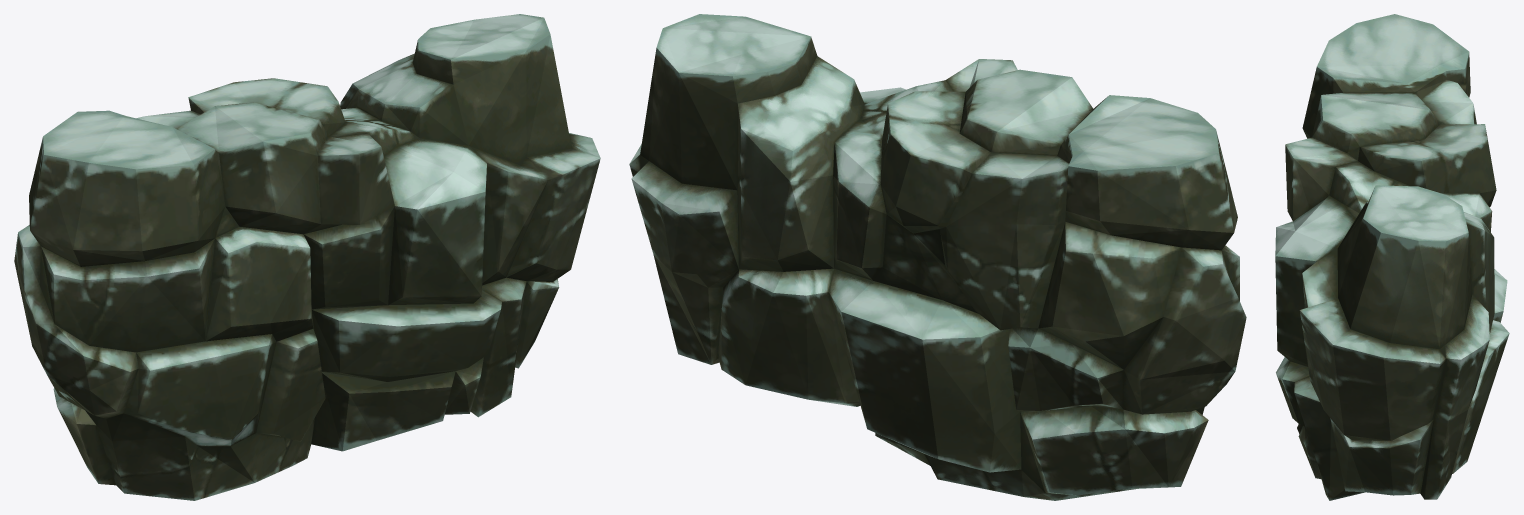
File: cliffrock01.fbx
3 renders of one model, left to right at view 1: azimuth 30°, elevation 25°; view 2: azimuth 150°, elevation 25°; view 3: azimuth 270°, elevation 25°, orthographic. The views are drawn at different scales.
Parts seen in each view (by area): view 1: obj0.047; view 2: obj0.047; view 3: obj0.047.
Part boxes in pixels (left/top/right/bottom): obj0.047: left=14, top=14, right=600, bottom=500; obj0.047: left=629, top=14, right=1246, bottom=500; obj0.047: left=1275, top=14, right=1509, bottom=500.
Bounding box in the file's own units: 17.57 × 10.72 × 6.94.
